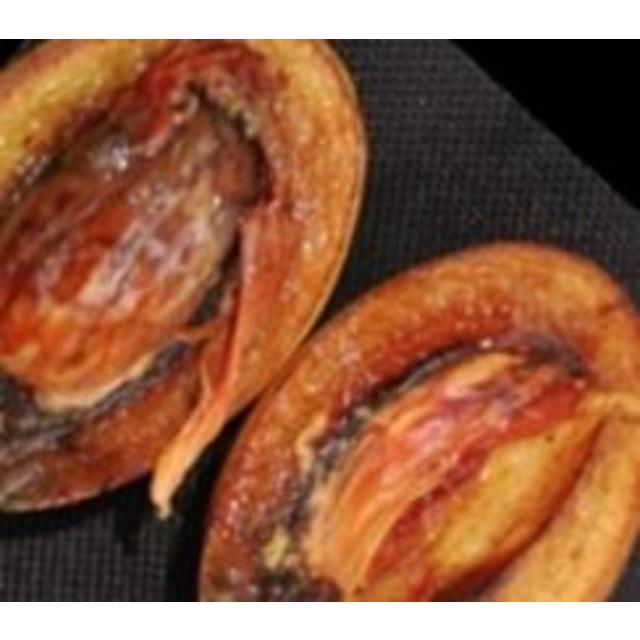damaged: (0, 38, 365, 513), (199, 243, 637, 599)
